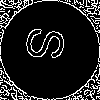S: (25, 25, 74, 63)
